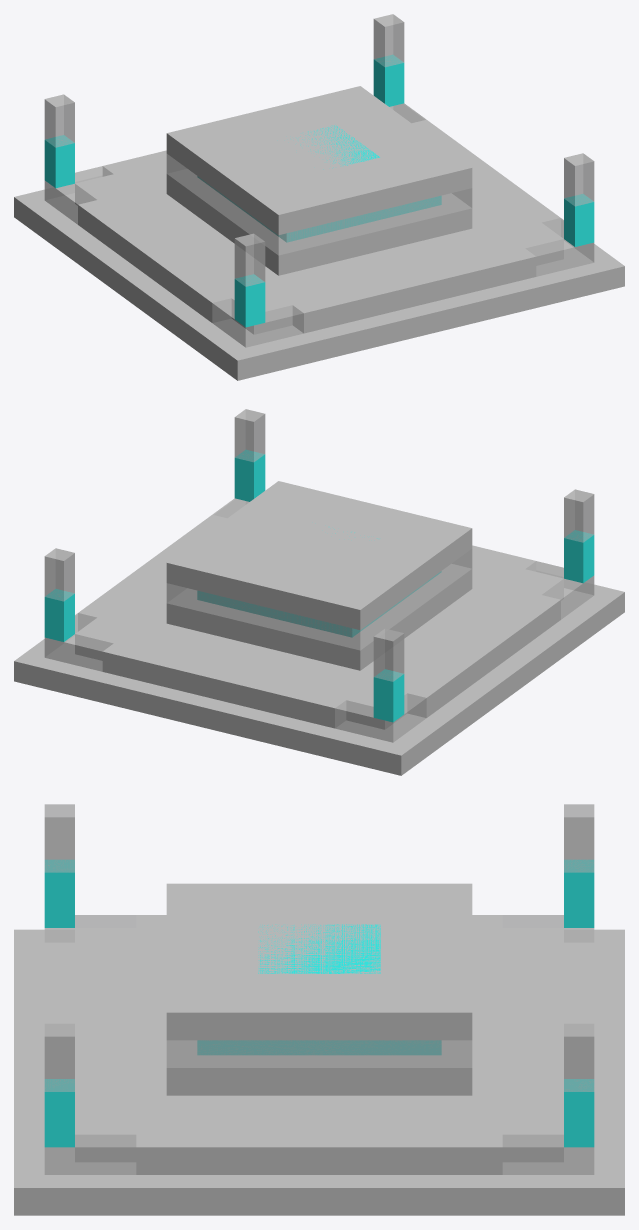
The model's file is metal2base.fbx.
3 views of the same model, one above another, from view 1: azimuth 30°, elevation 25°; view 2: azimuth 150°, elevation 25°; view 3: azimuth 270°, elevation 25° (orthographic). The views are drawn at different scales.
Visible parts, largest first — view 1: metal2; view 2: metal2; view 3: metal2.
Boxes of the visible parts, bbox=[...] form: metal2: bbox=[14, 14, 624, 380]; metal2: bbox=[14, 409, 624, 775]; metal2: bbox=[14, 804, 624, 1215].
Size of the model in its own units: 200 by 60 by 200.
